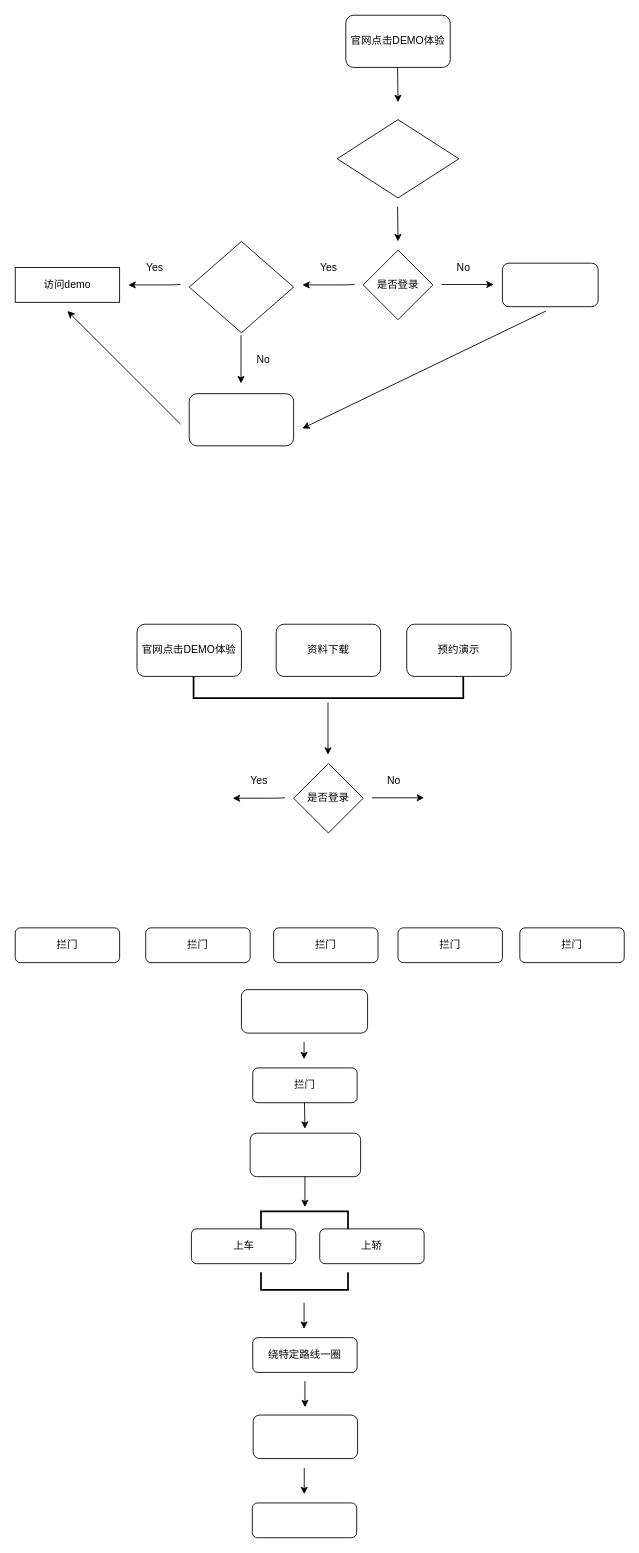
Some shapes in this 639 by 1553 pixel diagram are drawn without their labels. Here are the shapes that lost their labels. From the top down, the centre of each, then its label:
the point at 397,158: demo登录页面
the point at 241,287: 是否填写过 补充信息
the point at 550,284: 填写手机验证码
the point at 241,419: 填写补充信息 （姓名、公司）
the point at 304,1011: 准备工作
the point at 305,1154: 洗脚 （客房作为出嫁房间）
the point at 305,1436: 回到家里 （闺房作为新房）
the point at 304,1520: 换敬酒服，酒店敬酒
